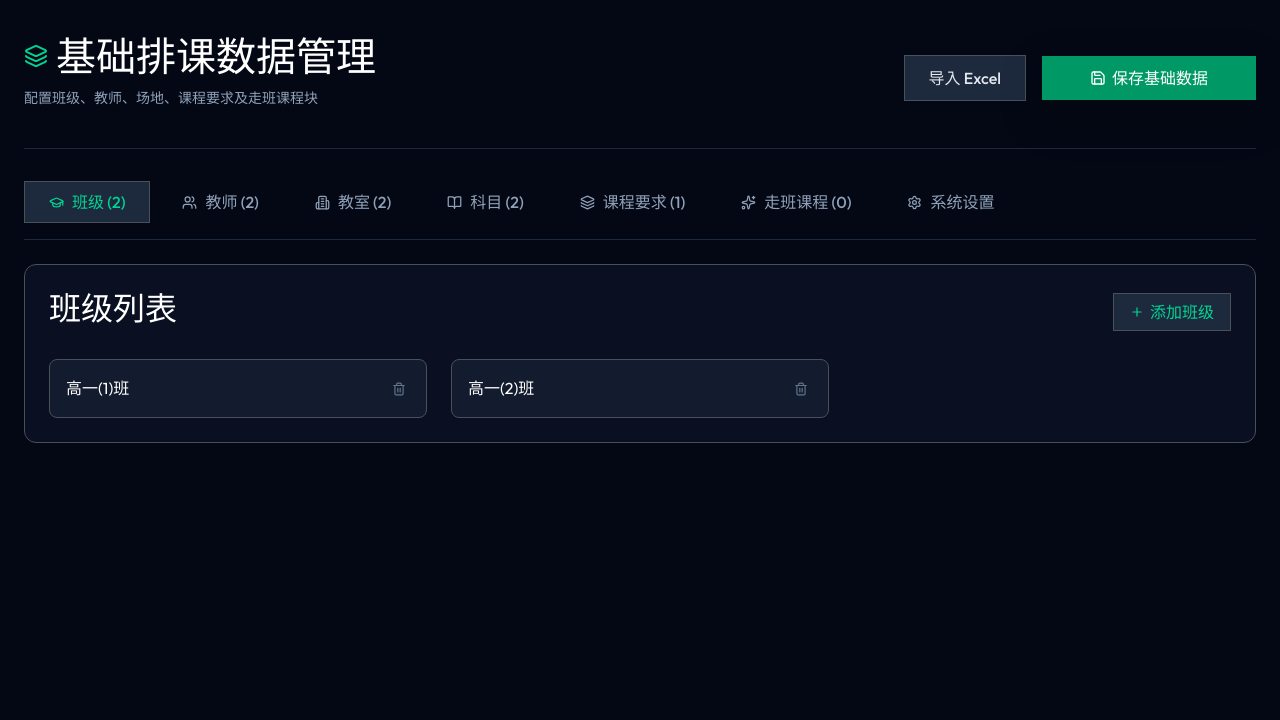
CatalogPage › limits fixed-slot controls to settings and chooses the next unused slot
The image size is (1280, 720).
Click the button "课程要求 (1)" at (633, 202), box [556,181,709,223]
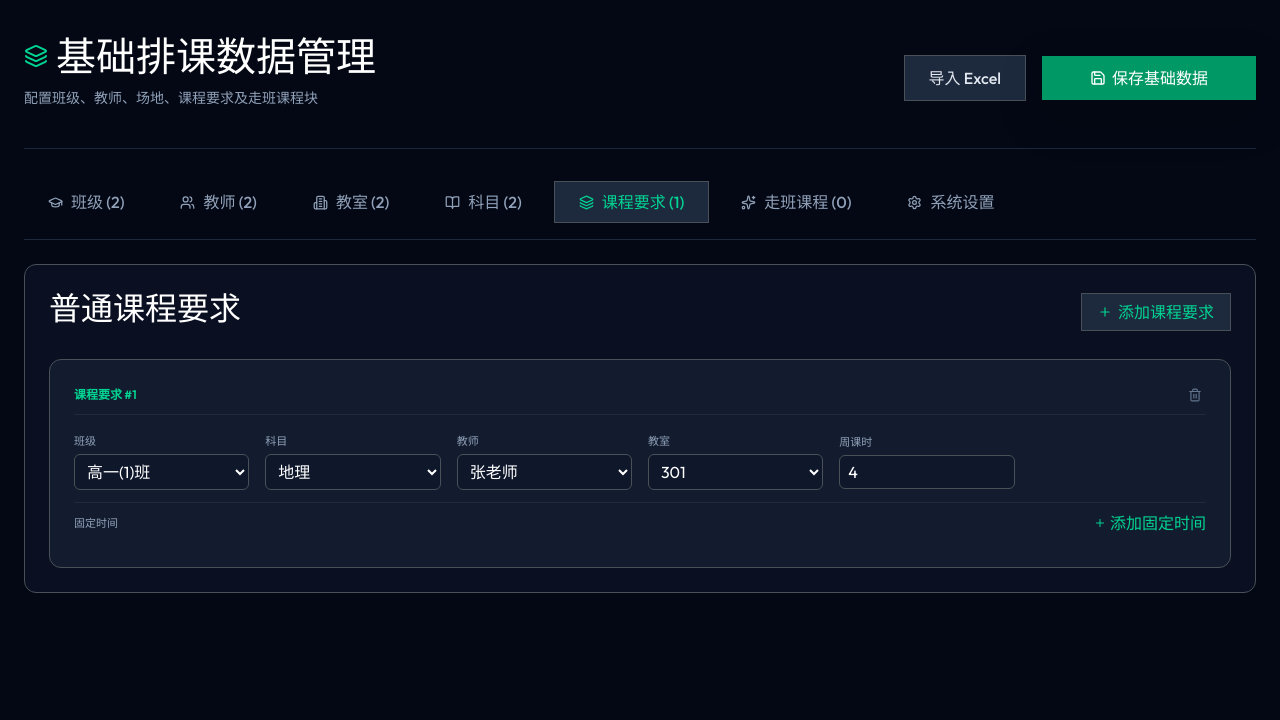
Click the button "添加固定时间" at (1150, 523), box [1094,511,1206,535]
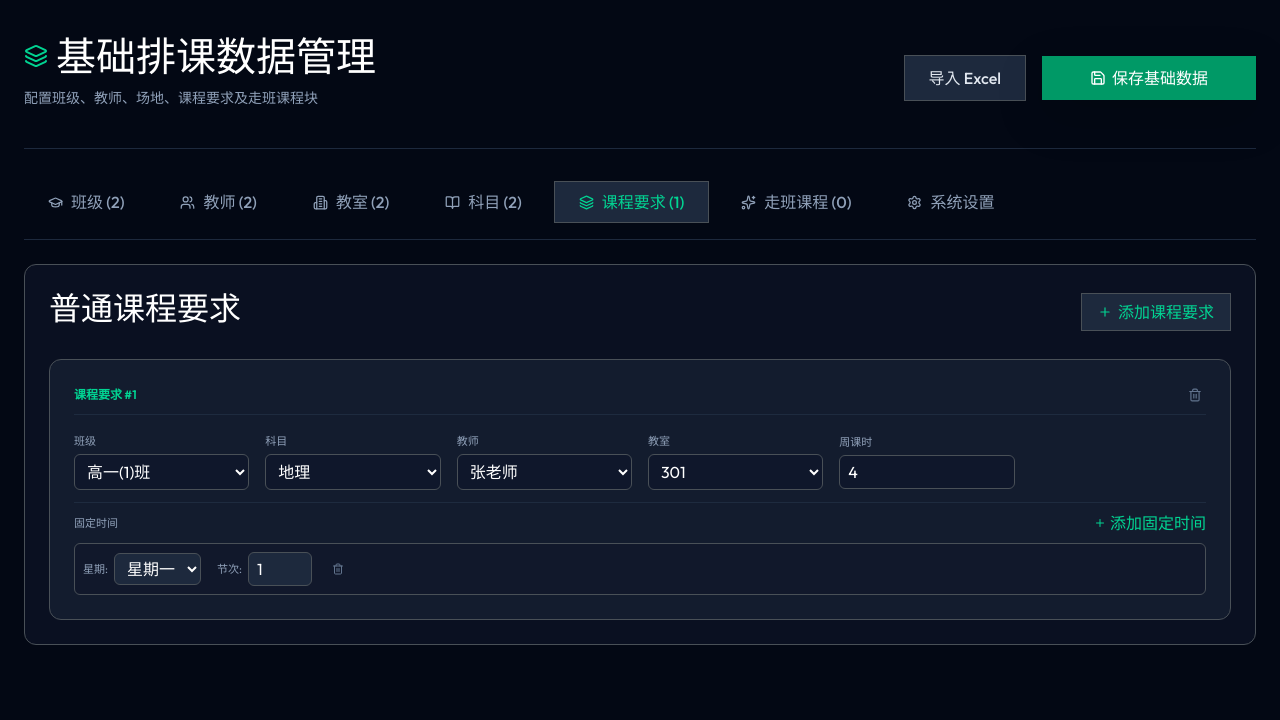
Click the button "添加固定时间" at (1150, 523), box [1094,511,1206,535]
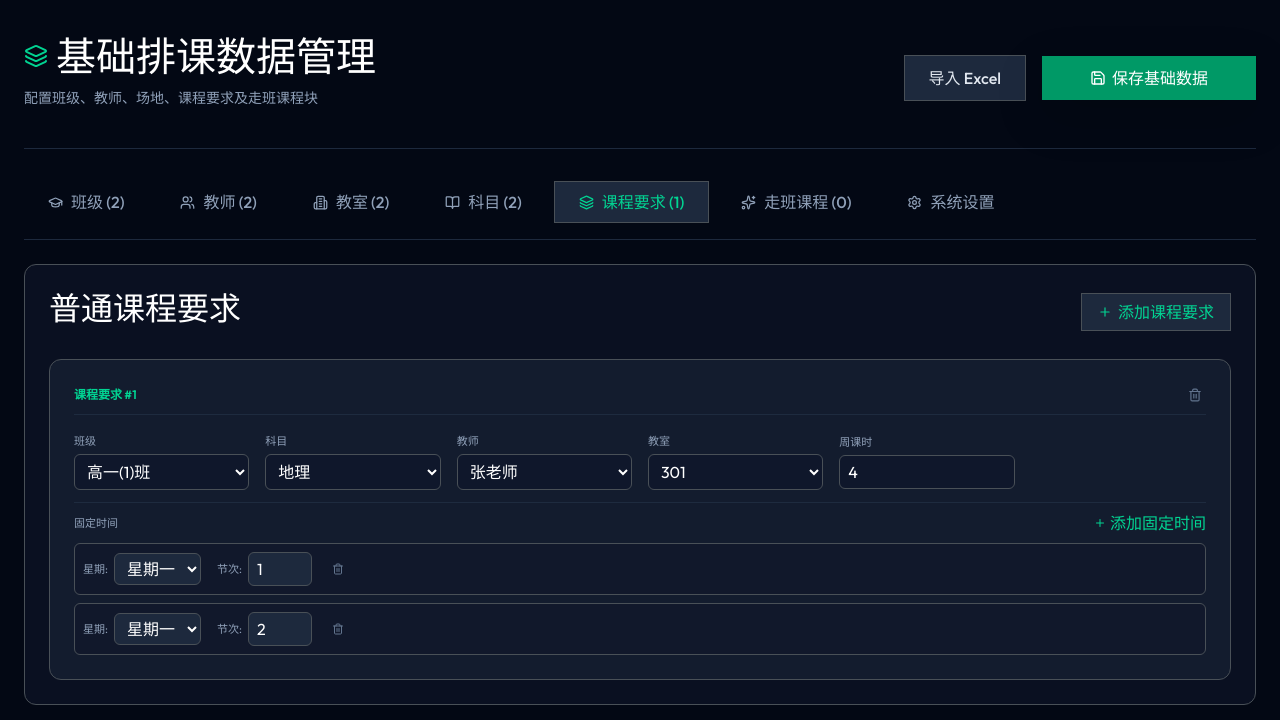
Expected: the number of dropdowns named "固定星期" is 2, [114,553,201,585]; [114,613,201,645]
